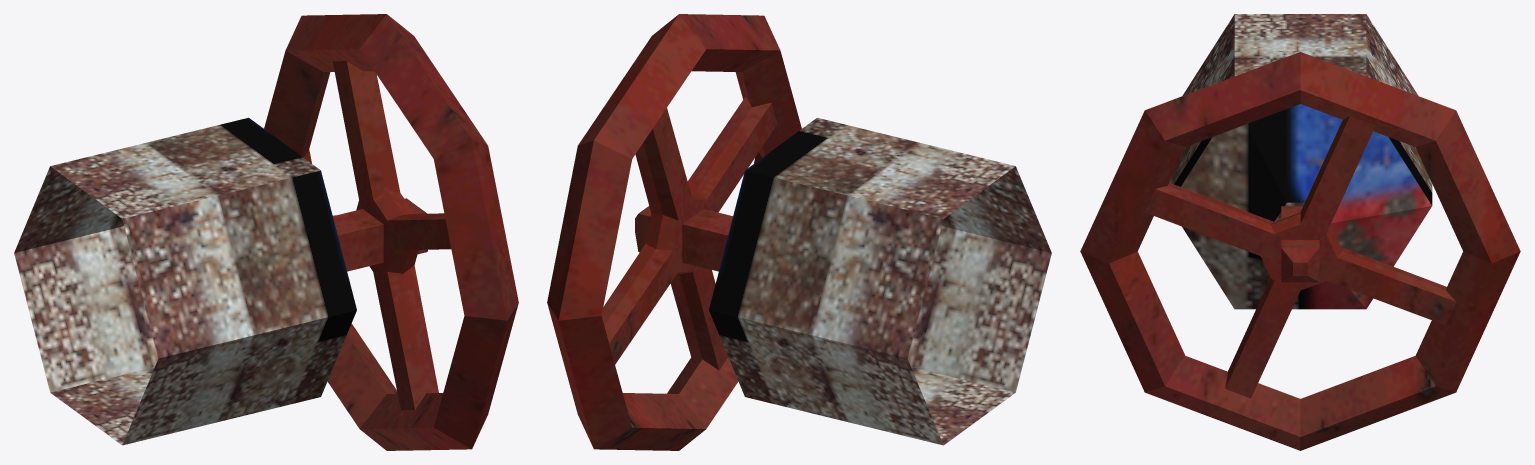
Rendered from Urban_ValveRedEndPieceRusted_Model.fbx.
3 renders of one model, left to right at view 1: azimuth 30°, elevation 25°; view 2: azimuth 150°, elevation 25°; view 3: azimuth 270°, elevation 25°, orthographic. The views are drawn at different scales.
Visible parts, largest first — view 1: Urban_ValveRedEndPieceRusted_Mesh; view 2: Urban_ValveRedEndPieceRusted_Mesh; view 3: Urban_ValveRedEndPieceRusted_Mesh.
Boxes of the visible parts, x1,y1,x2,y2 form: Urban_ValveRedEndPieceRusted_Mesh: [14, 14, 518, 450]; Urban_ValveRedEndPieceRusted_Mesh: [547, 14, 1051, 450]; Urban_ValveRedEndPieceRusted_Mesh: [1080, 14, 1520, 450].
Bounding box in the file's own units: 0.3399 × 0.4167 × 0.4167.
